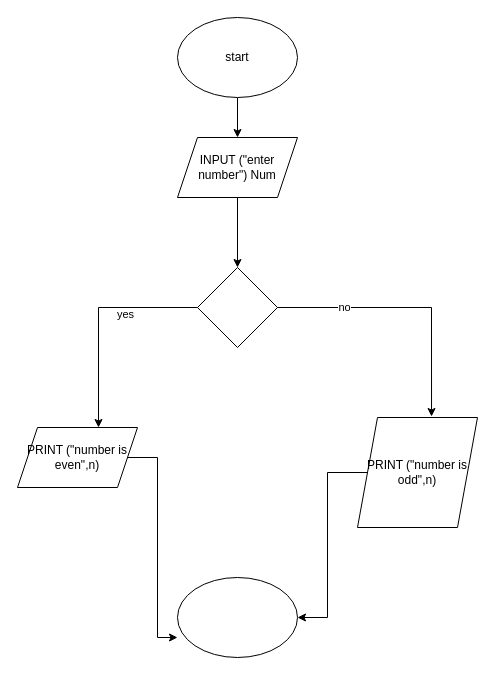
This 495x675 diagram has some shape labels left out. Here are the shapes that lost their labels. From the top down, the centre of each, then its label:
(237,307): Num%2=0
(237,617): end
